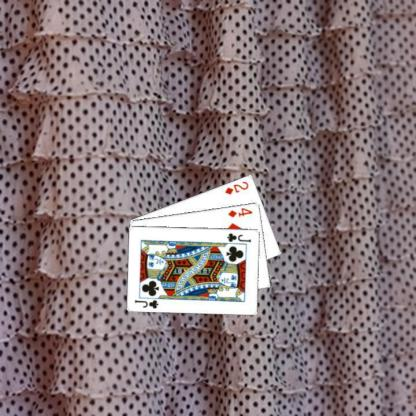2D: (222, 178, 250, 196)
4D: (226, 205, 254, 219)
JC: (132, 297, 160, 310), (225, 230, 252, 243)
